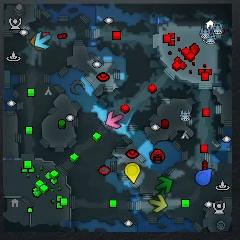p1: (196, 168, 212, 185)
p4: (124, 163, 140, 184)
x1: (105, 111, 123, 129)
x2: (150, 195, 168, 213)
x3: (35, 32, 51, 49)
x4: (155, 176, 172, 194)
x5: (30, 35, 43, 50)
